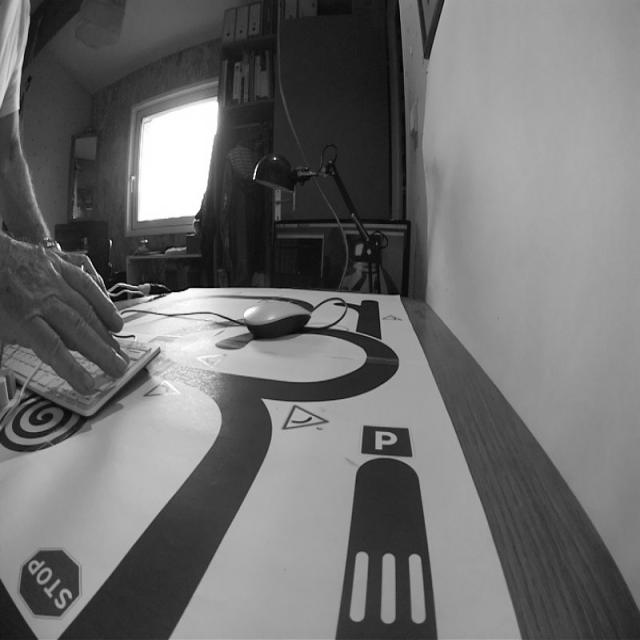Parking: (359, 425, 416, 459)
zebracross: (334, 547, 439, 631)
